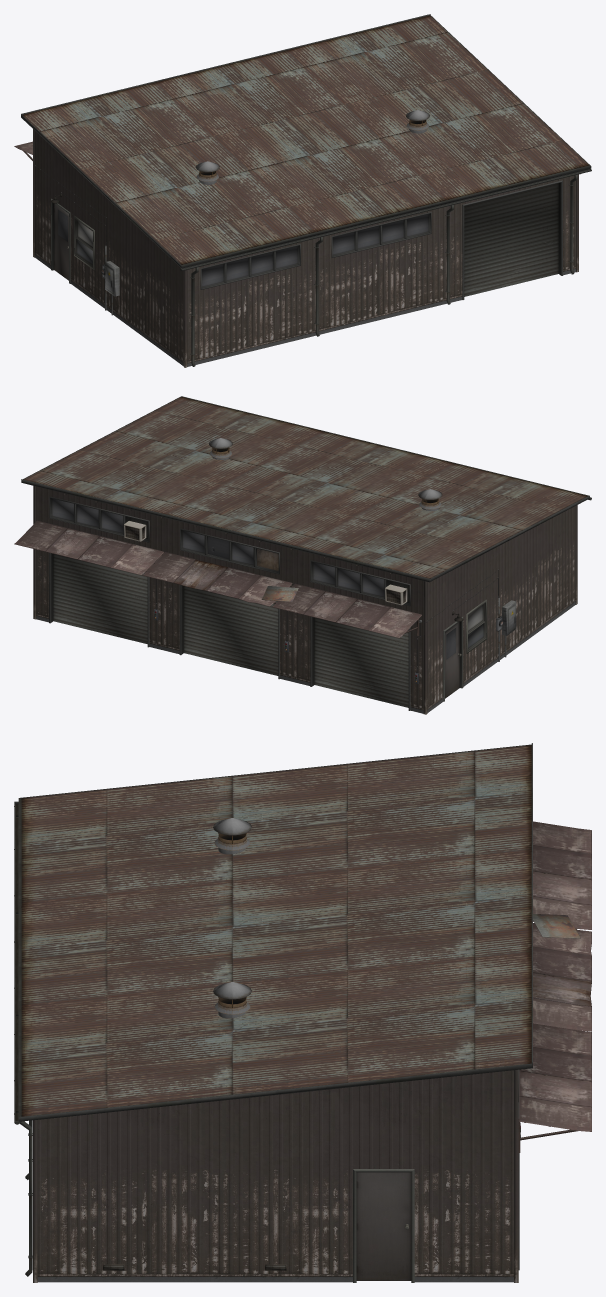
The model's file is wareHouse.obj.
The picture shows the model from 3 angles, top to bottom: view 1: azimuth 30°, elevation 25°; view 2: azimuth 150°, elevation 25°; view 3: azimuth 270°, elevation 25°; orthographic projection. The views are drawn at different scales.
Visible parts, largest first — view 1: wareHouse0; view 2: wareHouse0; view 3: wareHouse0.
Part boxes in pixels (<box>): wareHouse0: <box>14,14,591,367</box>; wareHouse0: <box>14,396,591,714</box>; wareHouse0: <box>14,743,591,1282</box>.
Bounding box in the file's own units: 254 × 83.71 × 194.
1 material, 1 textured.
